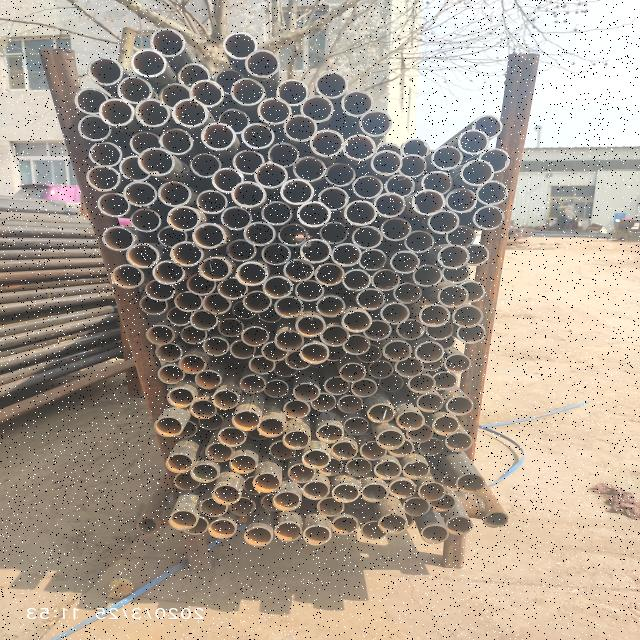pipe: (242, 48, 284, 79), (187, 221, 229, 252), (133, 96, 171, 128), (406, 188, 449, 216), (272, 77, 312, 107), (84, 58, 124, 88), (153, 26, 188, 60), (85, 162, 121, 195), (439, 188, 481, 216), (155, 129, 197, 157), (224, 181, 266, 209), (121, 242, 163, 270), (171, 98, 210, 128), (82, 140, 123, 168), (312, 70, 350, 100), (130, 46, 168, 76), (229, 77, 267, 107), (136, 148, 174, 178), (472, 180, 512, 208), (255, 98, 295, 126), (114, 77, 154, 105), (71, 86, 111, 114), (118, 181, 158, 209), (468, 205, 511, 231), (249, 164, 292, 190), (454, 160, 496, 186), (220, 32, 260, 59), (308, 129, 348, 156), (264, 141, 304, 168), (366, 149, 404, 177), (74, 114, 112, 142), (229, 150, 267, 178), (154, 180, 192, 208), (284, 158, 328, 182), (338, 202, 382, 226), (424, 210, 464, 236), (340, 89, 378, 116), (91, 193, 129, 220), (98, 98, 134, 126), (242, 122, 278, 150), (296, 200, 332, 228), (214, 205, 254, 230), (207, 166, 244, 193), (454, 130, 492, 156), (355, 110, 393, 136), (197, 124, 235, 150), (257, 199, 295, 225), (238, 222, 276, 248), (186, 152, 222, 179), (371, 192, 409, 217), (278, 179, 316, 204), (394, 154, 430, 180), (436, 243, 472, 269), (176, 63, 212, 89), (217, 108, 253, 134), (196, 256, 232, 282), (296, 238, 332, 264), (280, 115, 314, 142), (428, 146, 466, 170), (164, 206, 202, 230), (151, 260, 186, 286), (292, 314, 328, 339), (157, 81, 190, 108), (352, 173, 386, 199), (301, 96, 335, 122), (100, 225, 134, 251), (128, 207, 162, 233), (110, 263, 144, 289), (168, 240, 202, 266), (259, 240, 293, 266), (320, 164, 358, 187), (380, 218, 416, 242), (193, 190, 229, 214), (355, 247, 391, 271), (280, 258, 316, 282), (314, 325, 350, 349), (320, 184, 353, 210), (382, 174, 417, 198), (348, 226, 386, 248), (454, 324, 492, 346), (328, 245, 364, 268), (472, 114, 506, 138), (401, 230, 435, 254), (450, 306, 484, 330), (233, 264, 267, 288), (164, 384, 198, 408), (272, 295, 306, 319), (389, 283, 426, 305), (388, 250, 423, 273), (214, 68, 246, 93), (420, 172, 456, 194), (461, 244, 494, 268), (118, 154, 146, 182), (478, 150, 512, 173), (316, 222, 350, 245), (264, 272, 294, 298), (250, 470, 280, 496), (353, 287, 388, 309), (436, 285, 468, 309), (276, 222, 308, 246), (216, 278, 248, 302), (414, 340, 446, 364), (381, 338, 413, 362), (362, 318, 394, 342), (230, 408, 262, 432), (329, 481, 361, 505), (242, 524, 274, 548), (408, 268, 446, 288), (392, 320, 428, 341), (142, 324, 176, 346), (154, 364, 188, 386), (313, 263, 347, 285), (405, 373, 439, 395), (298, 343, 332, 365), (204, 518, 238, 540), (342, 268, 373, 292), (342, 310, 373, 334), (145, 279, 177, 302), (274, 329, 306, 352), (136, 512, 162, 540), (154, 225, 187, 247), (187, 309, 220, 331), (444, 226, 480, 246), (130, 132, 160, 156), (227, 238, 257, 262), (173, 290, 203, 314), (165, 450, 195, 474), (212, 481, 242, 505), (373, 429, 407, 450), (399, 138, 431, 160), (200, 293, 232, 315), (192, 368, 224, 390), (238, 326, 270, 348), (381, 302, 413, 324), (151, 416, 183, 438), (258, 416, 290, 438), (418, 524, 450, 546), (228, 452, 260, 474), (356, 483, 391, 503), (165, 304, 194, 328), (282, 428, 312, 451), (166, 509, 196, 532), (377, 513, 408, 535), (418, 306, 452, 326), (303, 448, 331, 472), (188, 460, 216, 484), (316, 295, 345, 318), (134, 296, 167, 316), (186, 274, 216, 296), (202, 334, 232, 356), (294, 280, 324, 302), (283, 398, 313, 420), (315, 424, 345, 446), (415, 438, 448, 458), (218, 426, 248, 448), (360, 519, 390, 541), (317, 455, 347, 477), (288, 462, 318, 484), (181, 514, 211, 536), (316, 496, 346, 518), (330, 514, 360, 536), (302, 525, 332, 547), (274, 521, 304, 543), (439, 264, 475, 282), (152, 343, 184, 363), (394, 358, 426, 378), (349, 378, 381, 398), (290, 382, 322, 402), (372, 460, 404, 480), (301, 480, 333, 500), (337, 362, 367, 383), (396, 411, 426, 432), (215, 387, 241, 411), (372, 268, 399, 291), (367, 402, 398, 422), (330, 440, 361, 460), (244, 292, 272, 314), (180, 353, 208, 375), (388, 436, 416, 458), (378, 373, 407, 394), (389, 478, 418, 499), (444, 433, 476, 452), (178, 326, 208, 346), (426, 321, 456, 341), (227, 340, 257, 360), (443, 354, 473, 374), (238, 374, 268, 394), (368, 360, 398, 380), (432, 416, 462, 436), (335, 394, 365, 414), (456, 474, 486, 494), (481, 510, 511, 530), (444, 516, 474, 536), (428, 494, 458, 514), (418, 482, 448, 502), (346, 457, 376, 477), (272, 491, 302, 511), (459, 281, 487, 302), (416, 393, 445, 413), (359, 441, 388, 461), (444, 397, 476, 415), (218, 316, 244, 338), (190, 399, 216, 421), (205, 443, 235, 462), (228, 497, 255, 518), (261, 342, 289, 362), (173, 472, 201, 492), (403, 460, 431, 480), (323, 377, 352, 396), (432, 371, 459, 391), (247, 356, 277, 374), (356, 345, 386, 363), (311, 392, 338, 412), (402, 498, 432, 516), (232, 300, 256, 322), (199, 411, 225, 431), (270, 440, 296, 460), (342, 336, 370, 354), (198, 499, 226, 517), (265, 379, 290, 399), (342, 419, 370, 436), (285, 352, 311, 370), (175, 420, 198, 440), (324, 346, 351, 363), (422, 356, 446, 374), (260, 492, 280, 513), (242, 476, 262, 496), (438, 334, 461, 351), (272, 361, 298, 376)
